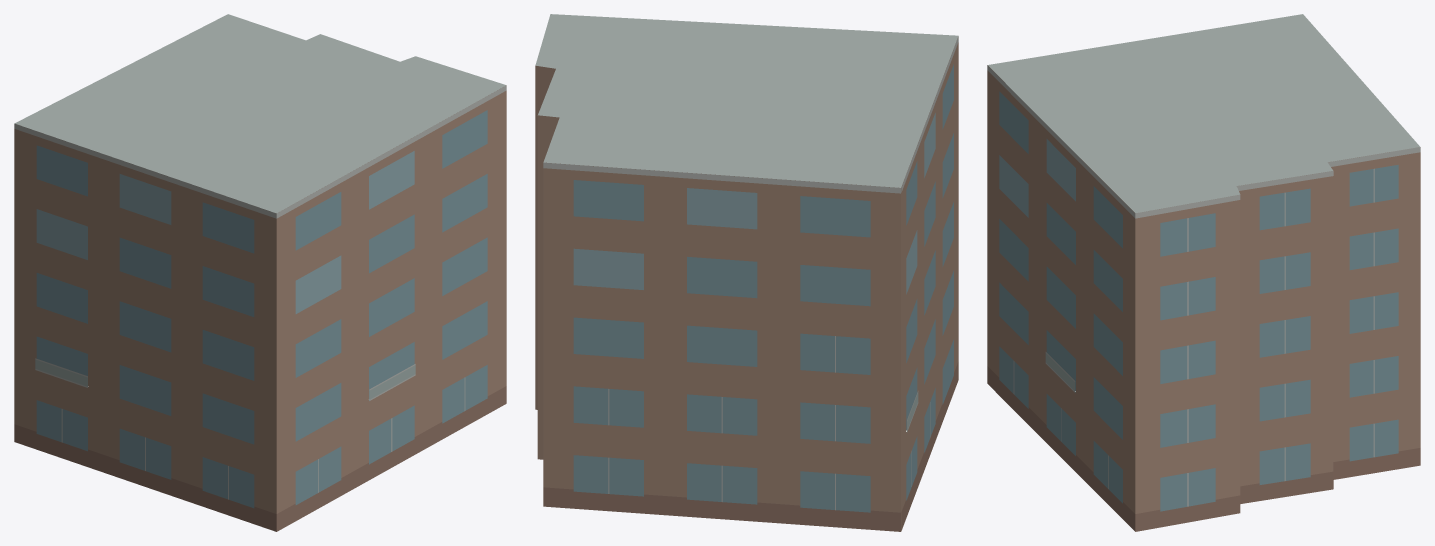
The model's file is survey-upis-32851249.glb.
3 views of the same model, side by side, from view 1: azimuth 30°, elevation 25°; view 2: azimuth 150°, elevation 25°; view 3: azimuth 270°, elevation 25° (orthographic). The views are drawn at different scales.
Visible parts, largest first — view 1: survey-upis-32851249.tmp; view 2: survey-upis-32851249.tmp; view 3: survey-upis-32851249.tmp.
Boxes of the visible parts, box(x1,y1,x2,y2) form: survey-upis-32851249.tmp: box(14, 14, 506, 531); survey-upis-32851249.tmp: box(535, 14, 958, 531); survey-upis-32851249.tmp: box(987, 14, 1420, 531).
Size of the model in its own units: 19.87 by 14.8 by 18.25.
